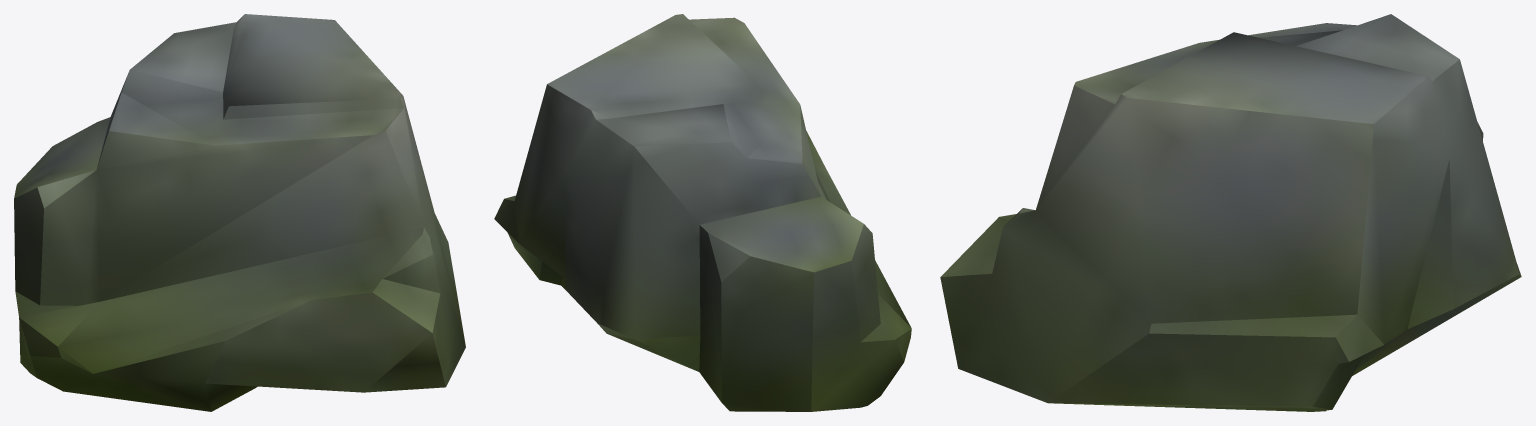
File: rock-3.glb
3 renders of one model, left to right at view 1: azimuth 30°, elevation 25°; view 2: azimuth 150°, elevation 25°; view 3: azimuth 270°, elevation 25°, orthographic. The views are drawn at different scales.
Visible parts, largest first — view 1: Rock_Medium_3; view 2: Rock_Medium_3; view 3: Rock_Medium_3.
Part boxes in pixels (x1=…): Rock_Medium_3: x1=14, y1=14, x2=465, y2=411; Rock_Medium_3: x1=494, y1=14, x2=911, y2=411; Rock_Medium_3: x1=940, y1=14, x2=1521, y2=411.
Bounding box in the file's own units: 1.18 × 0.7874 × 1.2.
1 material, 1 textured.
